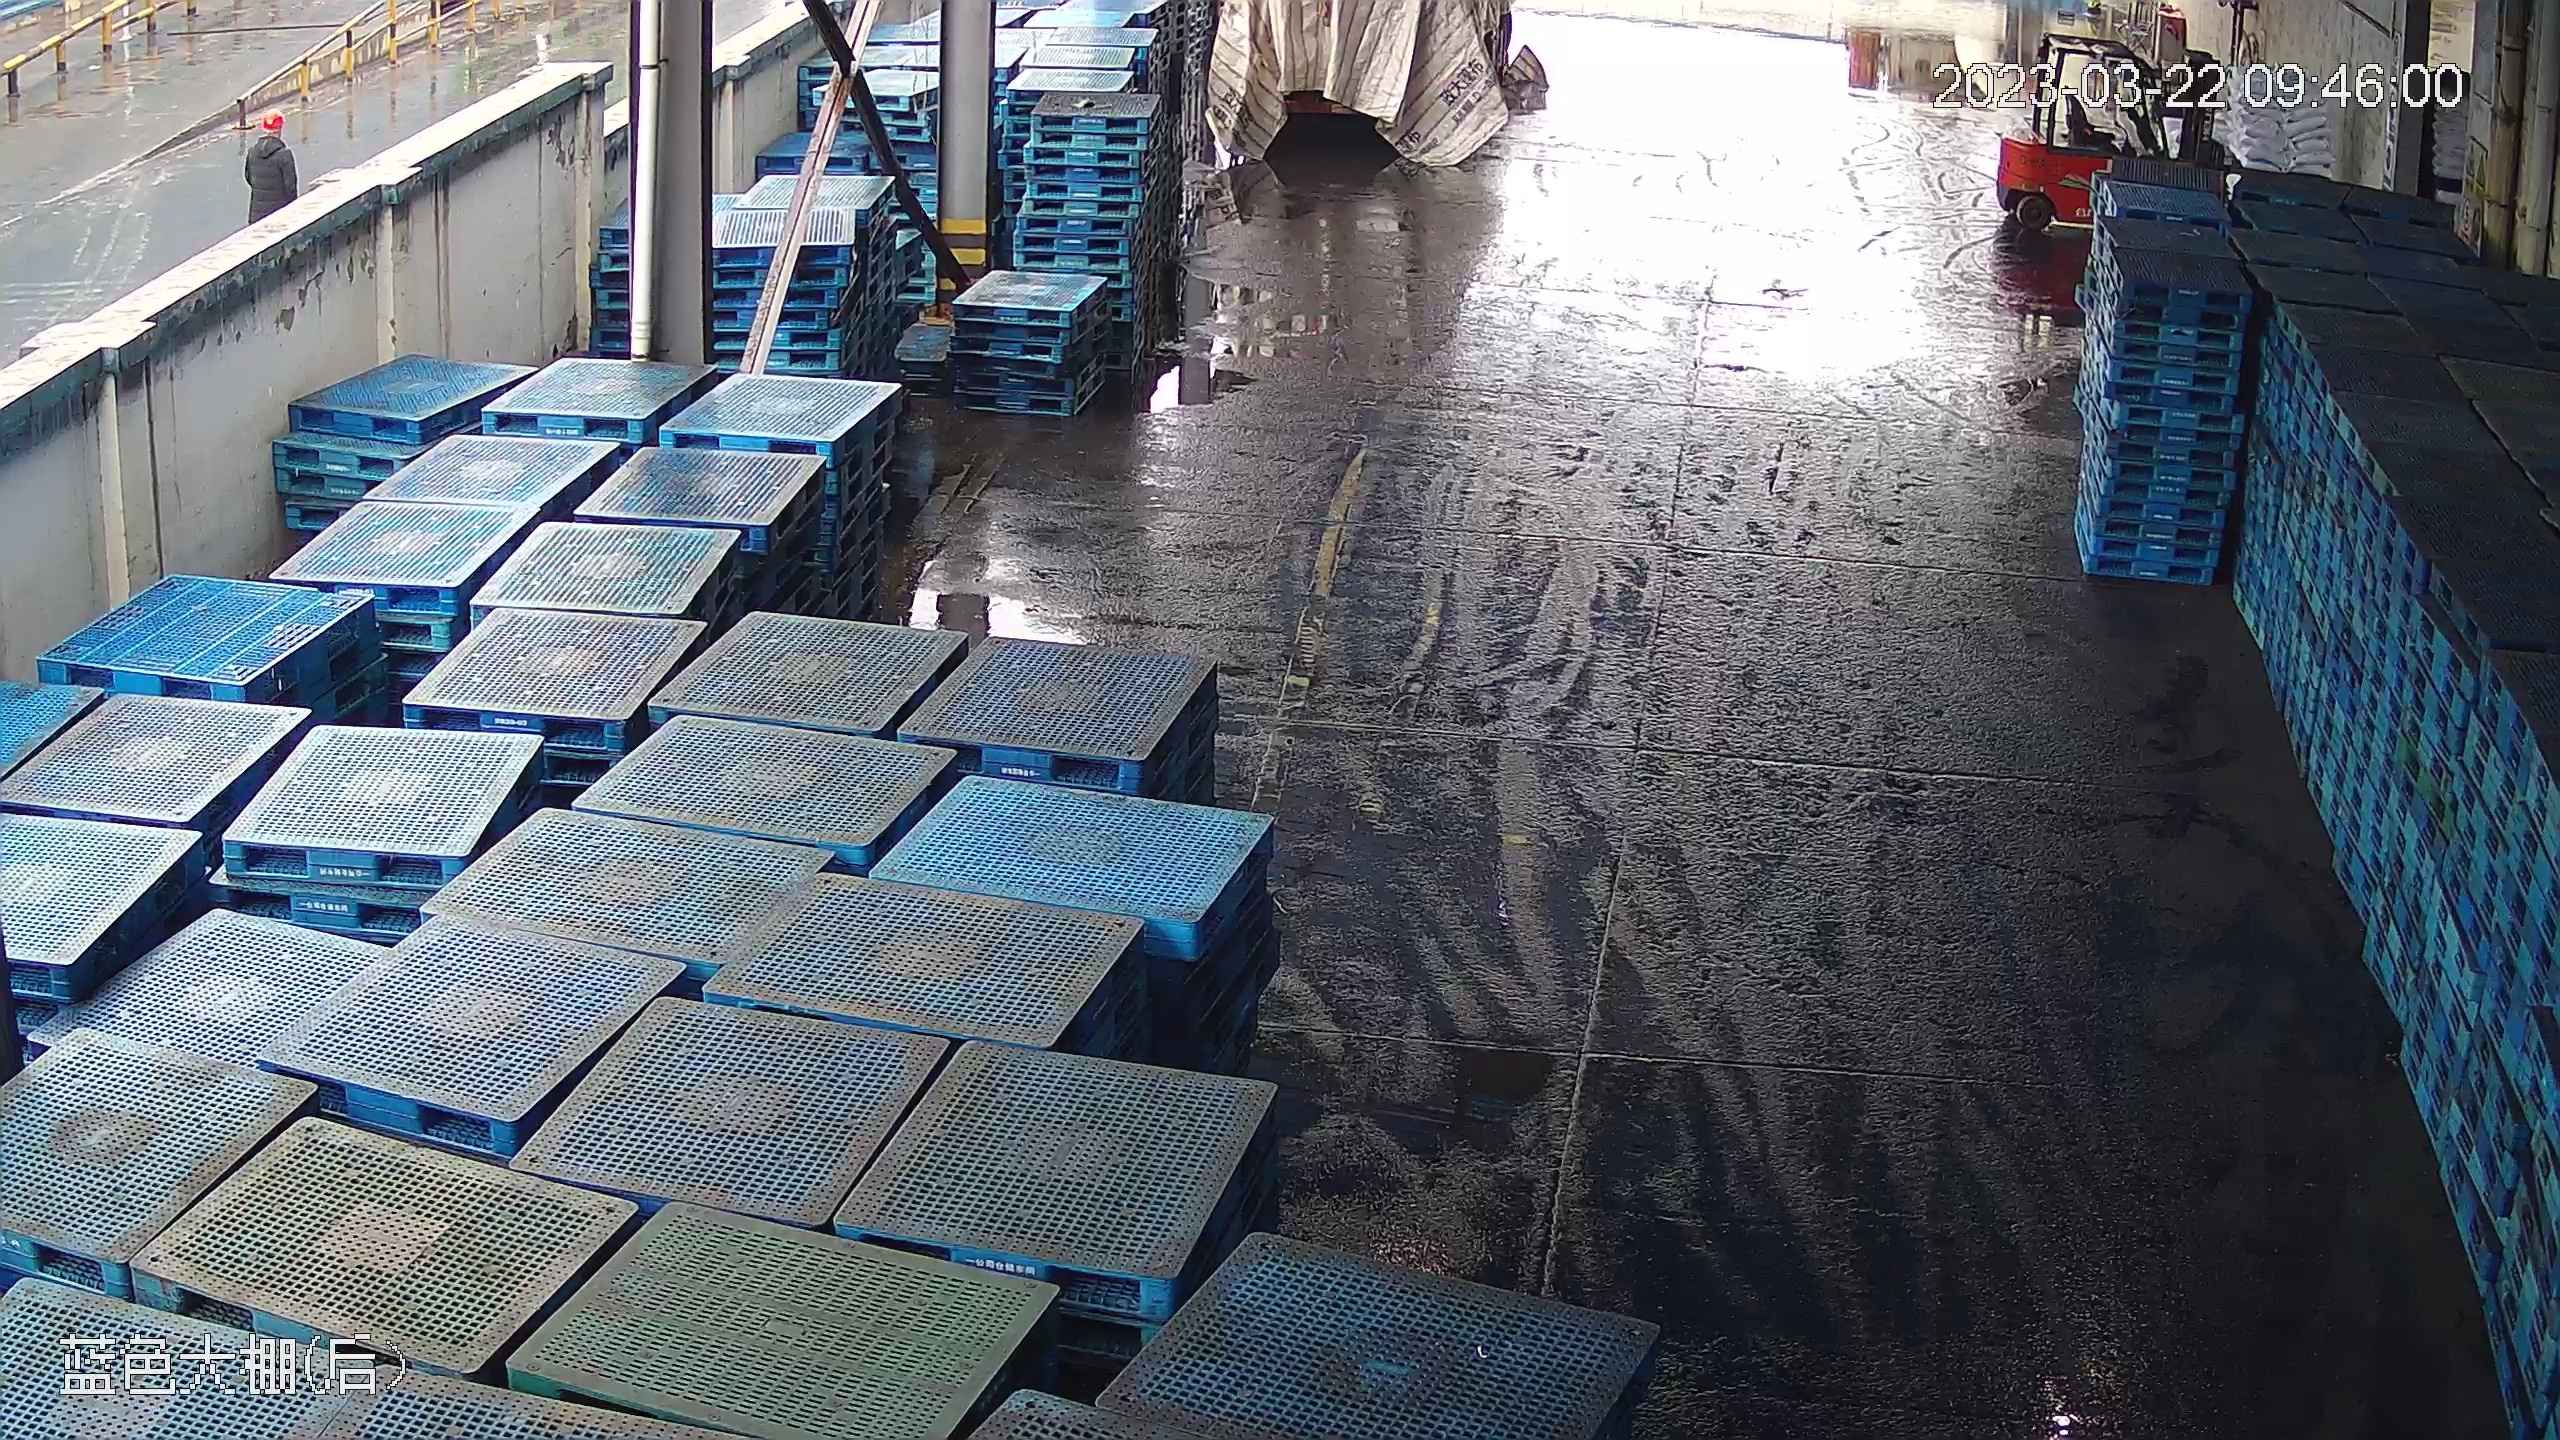head: (244, 109, 297, 170)
helmet: (259, 110, 288, 133)
people: (238, 100, 299, 250)
